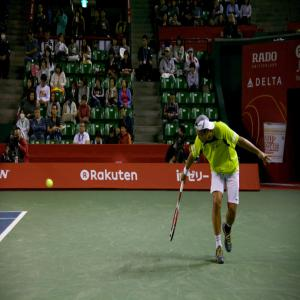TennisBall: (47, 181, 54, 190)
